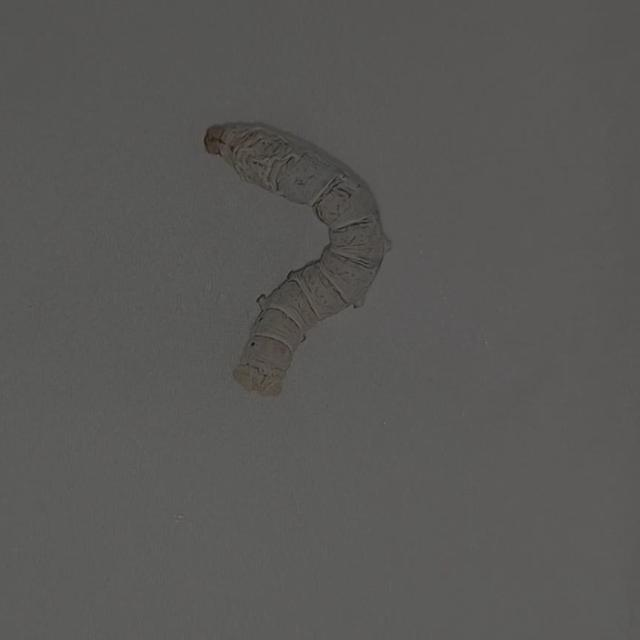Healthy: (187, 98, 402, 416)
